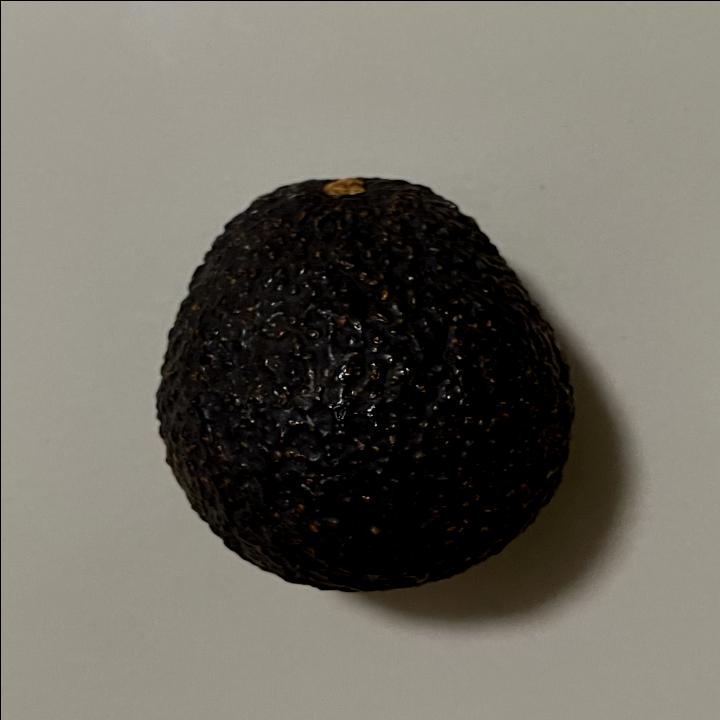Level3: (145, 164, 582, 601)
